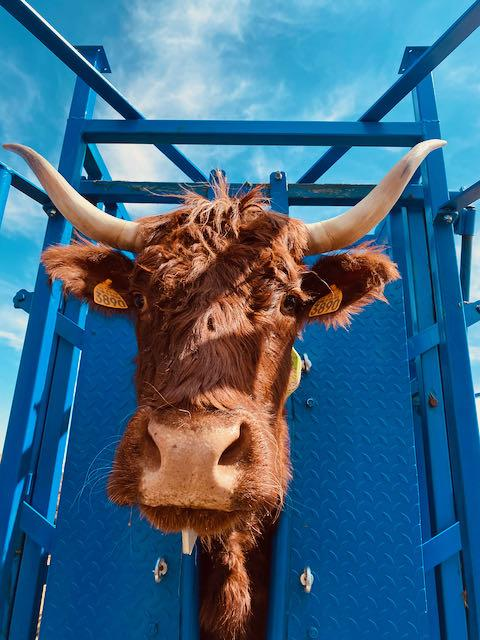muzzles: (102, 407, 295, 536)
